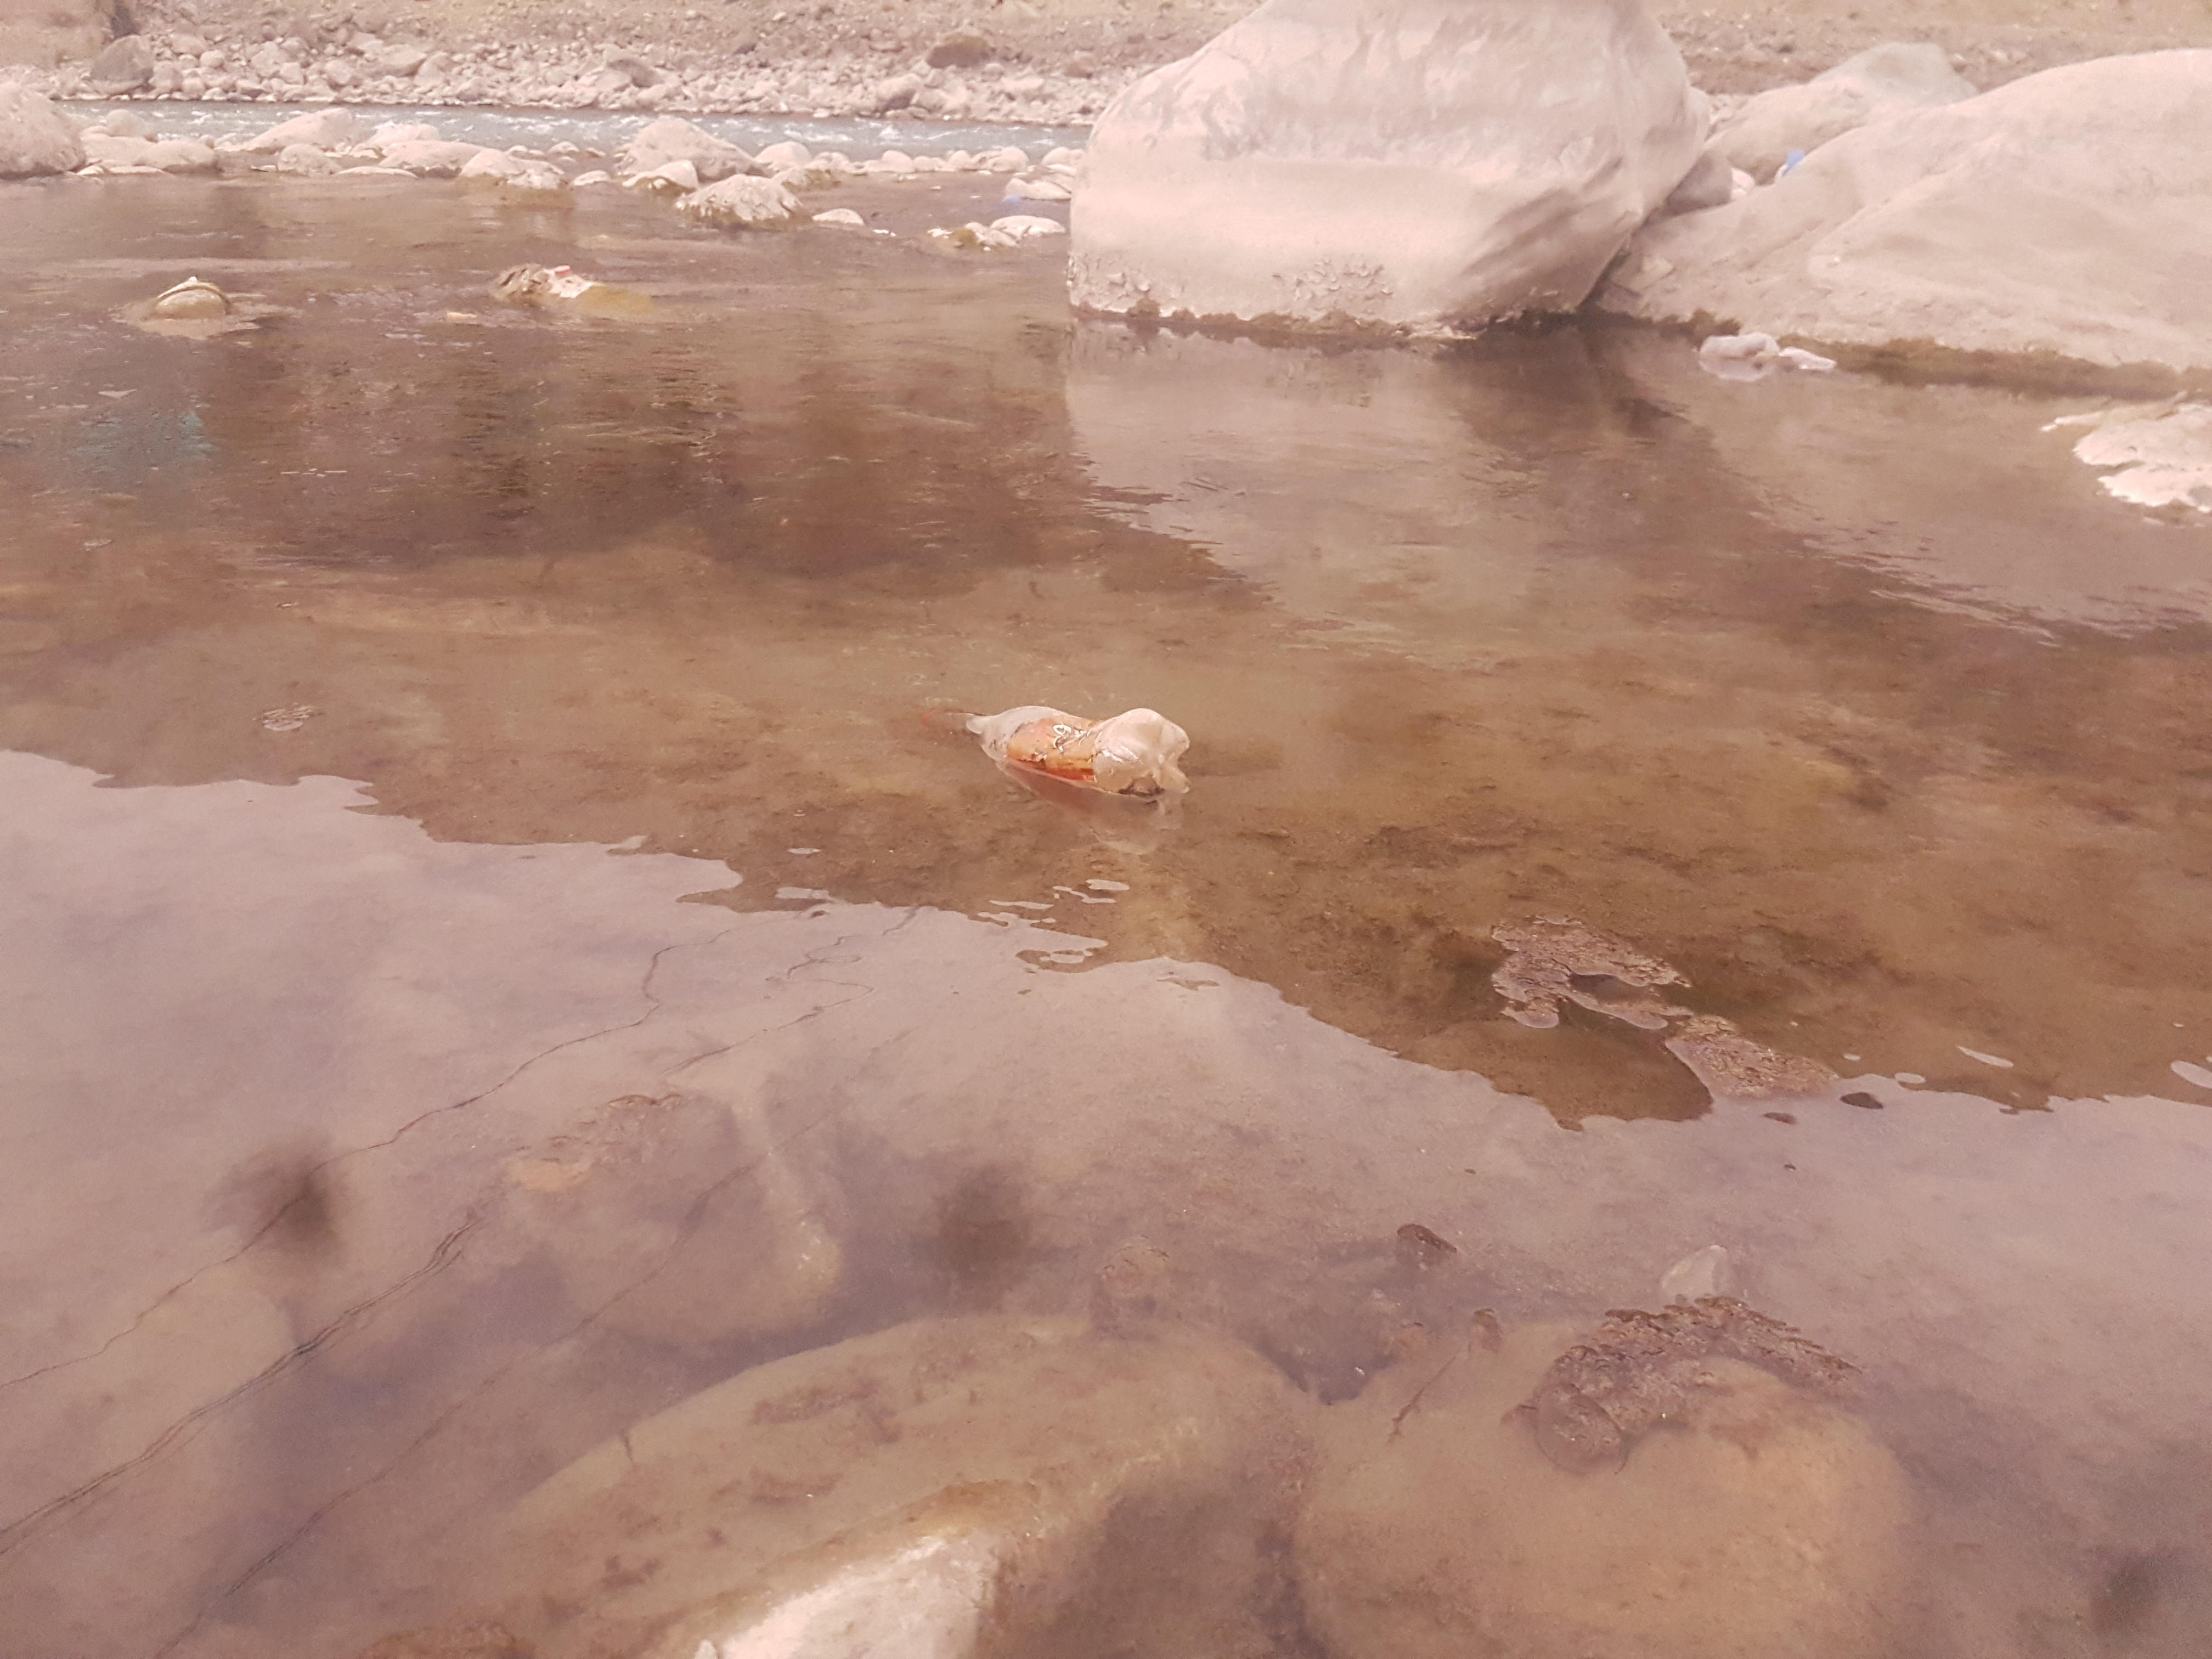Plastic Bottle: (972, 704, 1193, 798), (1001, 195, 1021, 202)
